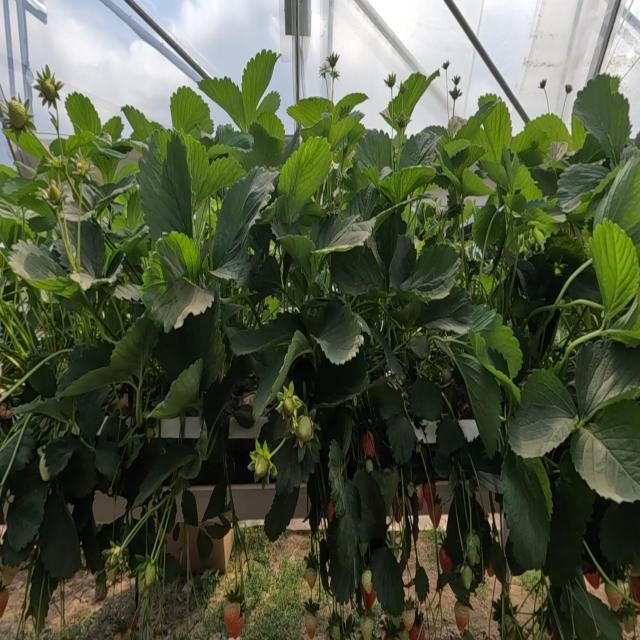Flowers: (384, 73, 395, 91), (442, 60, 448, 71), (453, 75, 459, 85)
Leaves: (437, 468, 493, 605), (62, 318, 159, 396), (571, 399, 639, 502), (213, 167, 276, 278), (144, 233, 214, 331), (155, 293, 224, 390), (507, 370, 575, 458), (501, 447, 550, 569), (137, 136, 191, 242), (451, 345, 499, 456), (573, 75, 630, 162), (588, 219, 639, 316), (253, 331, 308, 419), (575, 340, 639, 415), (543, 483, 587, 588), (278, 137, 331, 223), (39, 485, 81, 579), (137, 441, 195, 505), (594, 154, 639, 233), (6, 468, 48, 552), (308, 299, 362, 363), (399, 244, 459, 299), (151, 359, 203, 419), (231, 313, 301, 355), (314, 352, 367, 407), (58, 341, 113, 394), (329, 440, 361, 523), (331, 246, 384, 295), (418, 287, 473, 334), (242, 50, 276, 126), (600, 502, 639, 568), (9, 240, 67, 284), (482, 314, 522, 377), (310, 214, 375, 252), (557, 163, 607, 211), (511, 114, 571, 154), (353, 470, 386, 542), (327, 518, 354, 604), (200, 77, 246, 127), (371, 547, 403, 615), (57, 446, 95, 501), (199, 157, 245, 201), (170, 86, 211, 134), (376, 213, 404, 282), (400, 127, 444, 170), (264, 487, 299, 541), (456, 98, 498, 143), (479, 101, 511, 160), (274, 439, 308, 494), (370, 328, 404, 380), (381, 167, 433, 200), (182, 136, 209, 199), (357, 129, 391, 175), (473, 200, 504, 248), (65, 93, 100, 135), (45, 435, 81, 475), (410, 377, 443, 420), (280, 235, 314, 276), (387, 414, 415, 463), (369, 379, 403, 419), (250, 123, 281, 166), (81, 221, 104, 278), (289, 97, 331, 127), (337, 513, 358, 573), (122, 105, 156, 141), (436, 415, 465, 457), (250, 257, 280, 297), (450, 145, 485, 179), (436, 140, 462, 184), (328, 115, 360, 148), (475, 454, 502, 493), (10, 132, 49, 159), (0, 177, 43, 201), (95, 439, 120, 479), (99, 175, 135, 202), (462, 169, 491, 196), (125, 190, 144, 231), (471, 304, 496, 332), (65, 131, 96, 153), (218, 132, 253, 151), (433, 447, 452, 478), (258, 91, 280, 116), (505, 191, 527, 215), (102, 116, 123, 141), (113, 283, 141, 300), (410, 334, 429, 359)
Strawberries: (33, 65, 63, 108), (7, 99, 33, 136), (249, 440, 271, 480), (224, 601, 240, 635), (454, 602, 471, 632), (464, 531, 479, 565), (604, 583, 622, 611), (296, 416, 312, 445), (44, 183, 62, 205), (94, 574, 107, 602), (438, 548, 451, 571), (361, 432, 374, 455), (144, 563, 155, 589), (622, 615, 637, 634), (360, 618, 373, 639), (459, 565, 471, 587), (402, 609, 414, 631), (305, 614, 315, 639), (364, 588, 375, 610), (629, 576, 639, 600), (304, 567, 315, 588), (431, 505, 441, 527), (585, 572, 599, 587), (362, 569, 371, 592), (0, 590, 8, 615), (284, 397, 294, 416), (408, 625, 421, 639), (330, 625, 339, 639), (399, 628, 409, 639), (114, 632, 125, 639)
